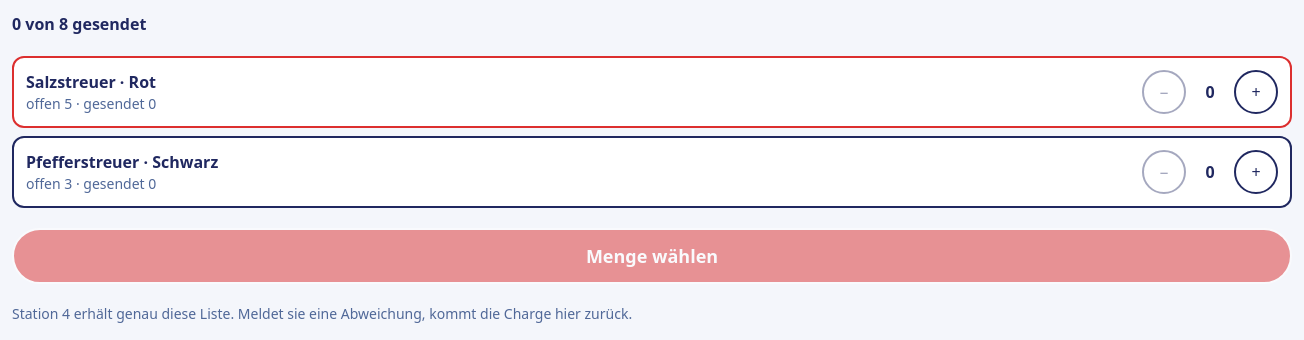
Station3ProductionView › sends one batch per chosen variant and resets the row quantities
Click the button named "Salzstreuer · Rot mehr": (1256,92) [1234, 70, 1278, 114]
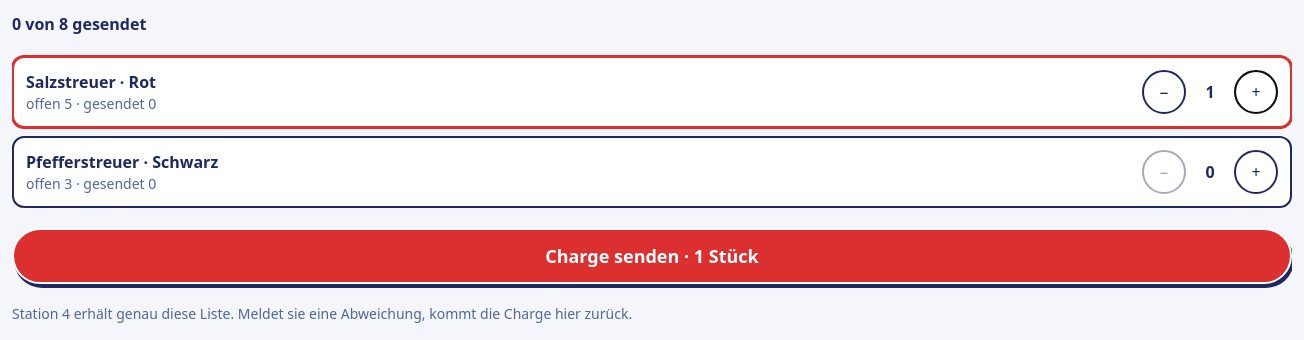
Click the button named "Salzstreuer · Rot mehr": (1256,92) [1234, 70, 1278, 114]
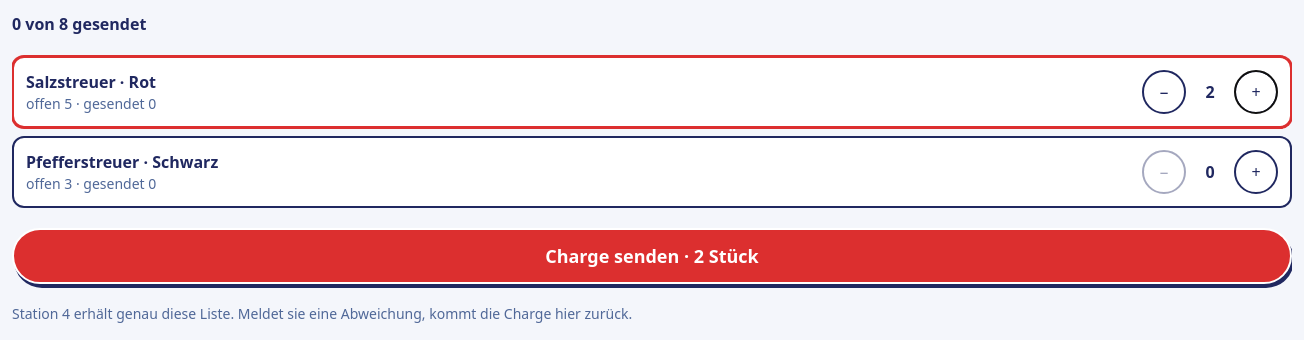
Click the button named "Pfefferstreuer · Schwarz mehr": (1256,172) [1234, 150, 1278, 194]
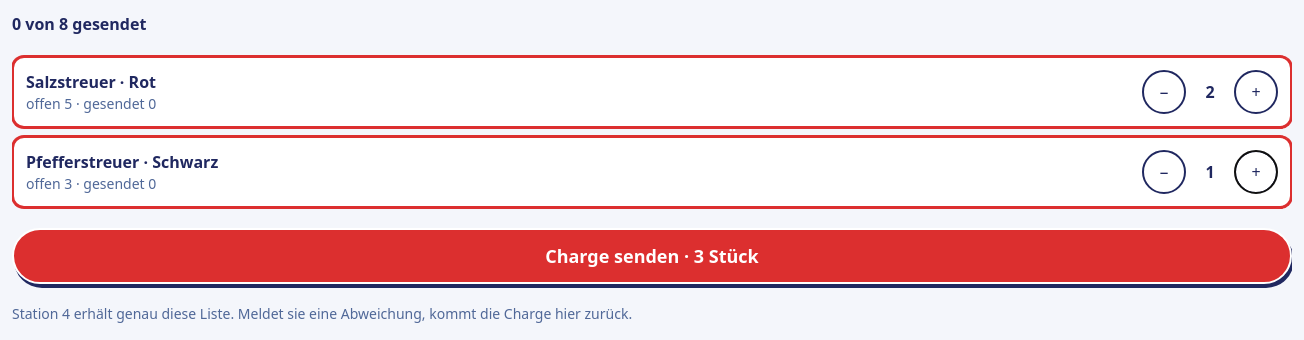
Result: the button "Charge senden · 3 Stück" is shown
Click the button "Charge senden · 3 Stück": (652,256) [12, 228, 1292, 284]
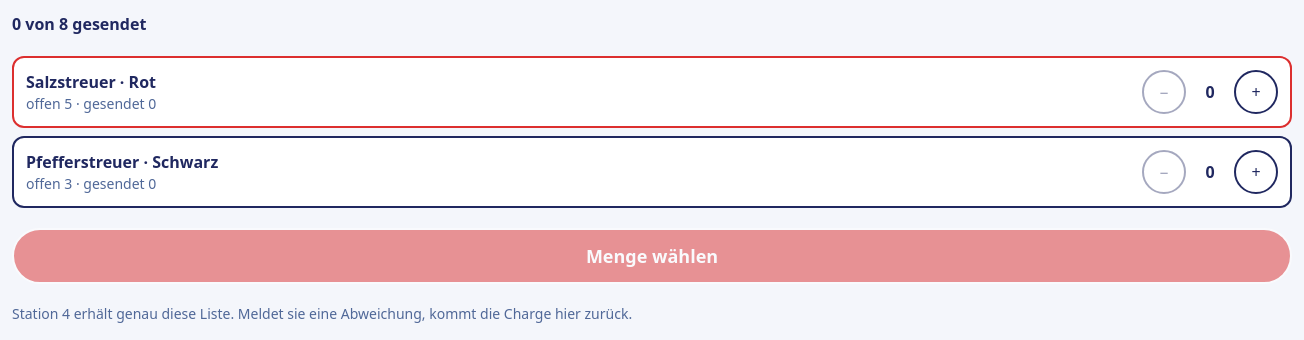
Result: the button "Menge wählen" is shown at [12, 228, 1292, 284]
